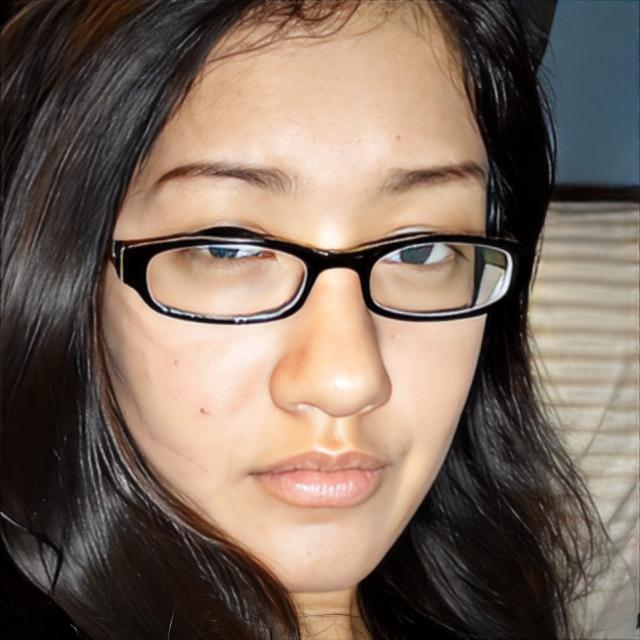content: (100, 0, 496, 596)
